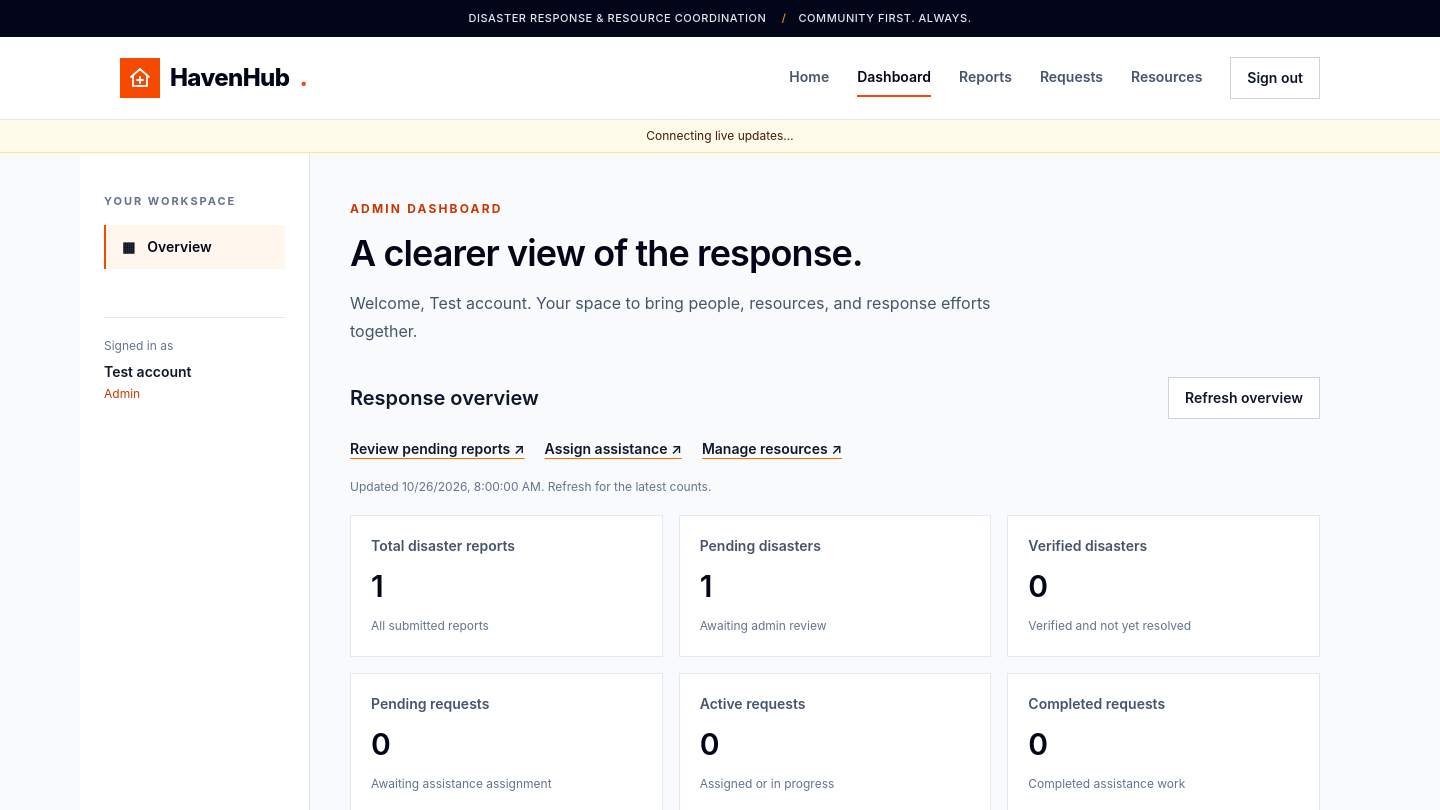
unmount and sign-out remove socket listeners and disconnect the old session
The width and height of the screenshot is (1440, 810).
Click the button "Sign out": (1275, 78) [1230, 56, 1320, 98]
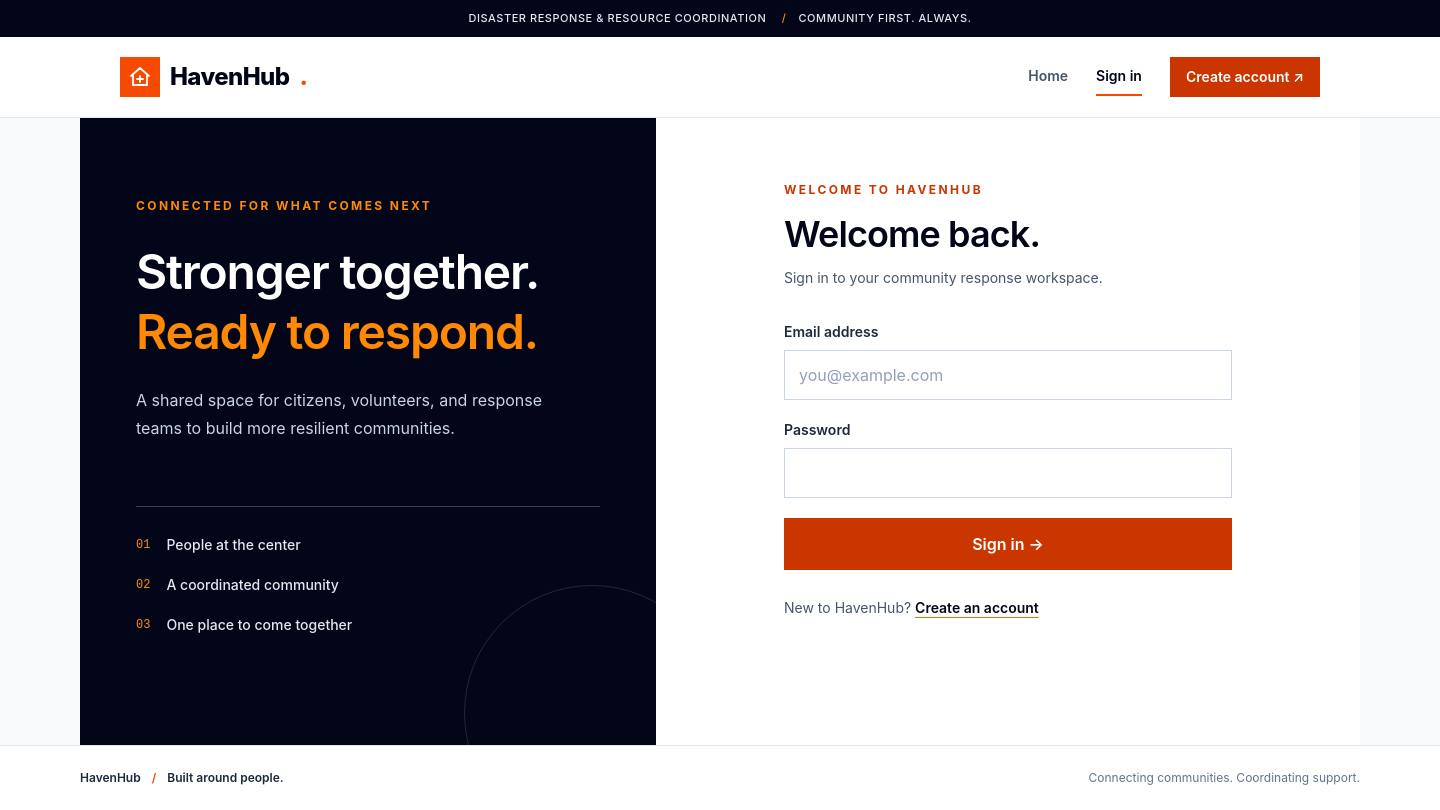
Expected: the heading "Welcome back." is shown, [784, 212, 1040, 256]
